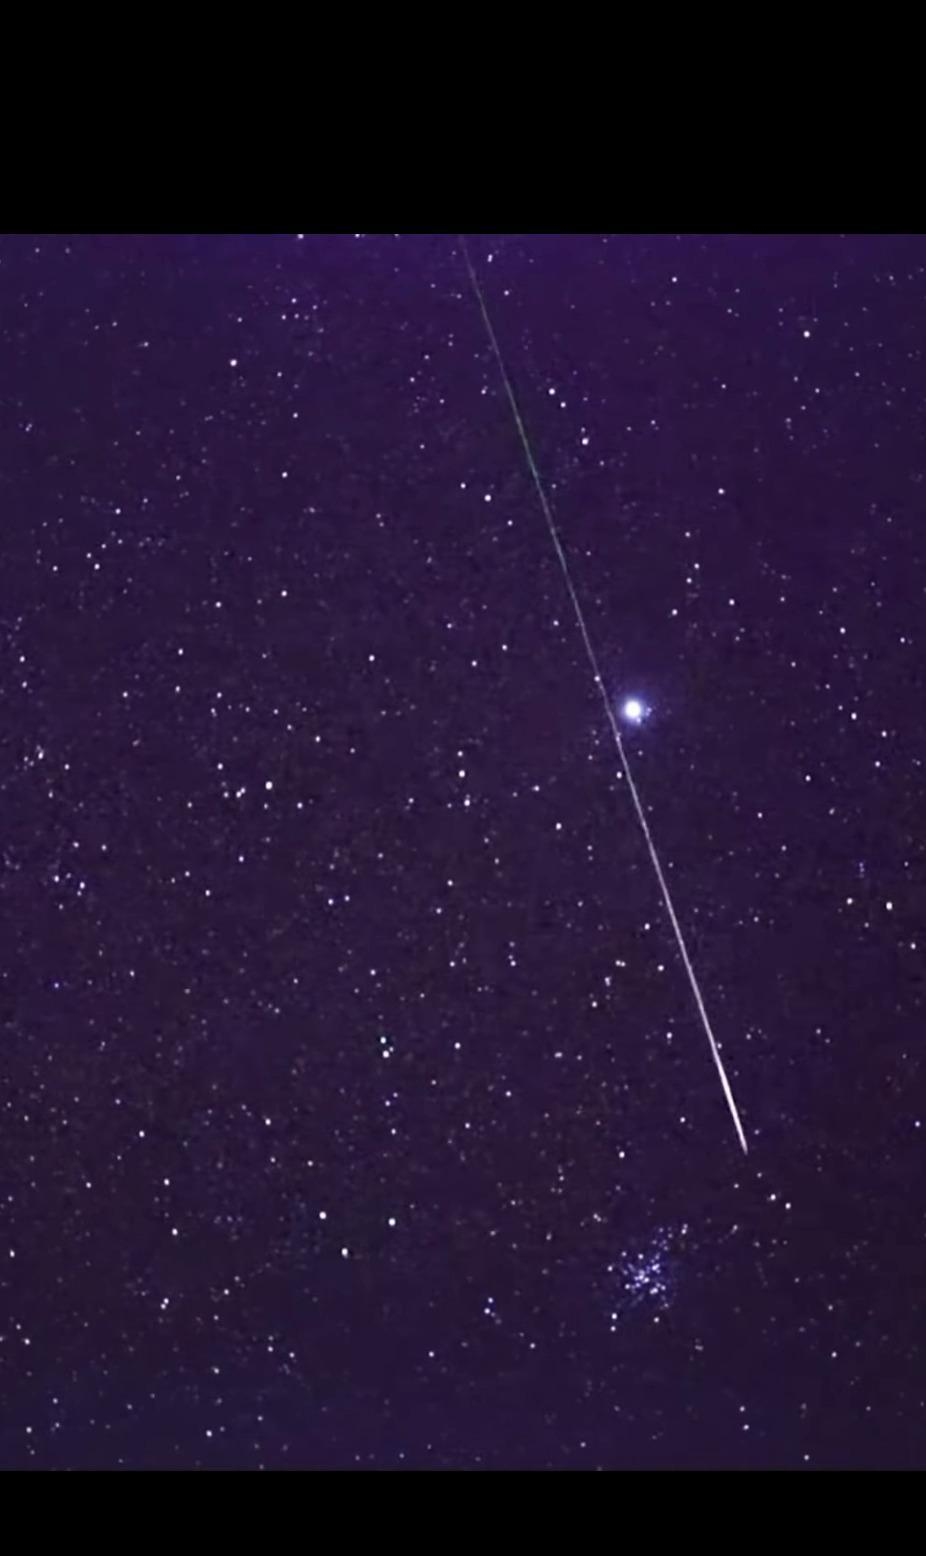meteorite: (597, 753, 771, 1191)
